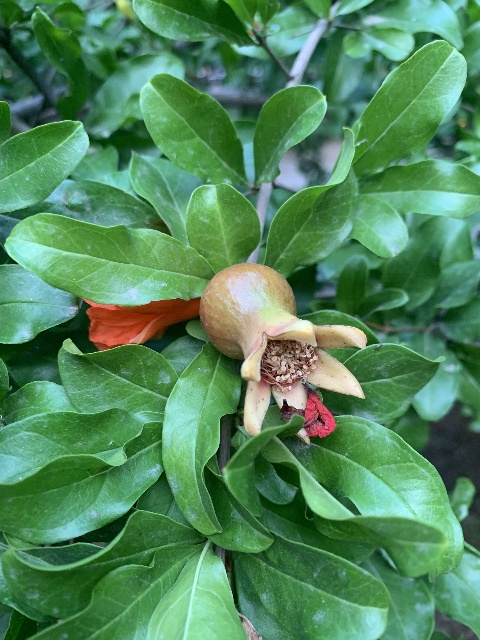early-fruit: (199, 263, 368, 443)
flower: (84, 293, 198, 348)
